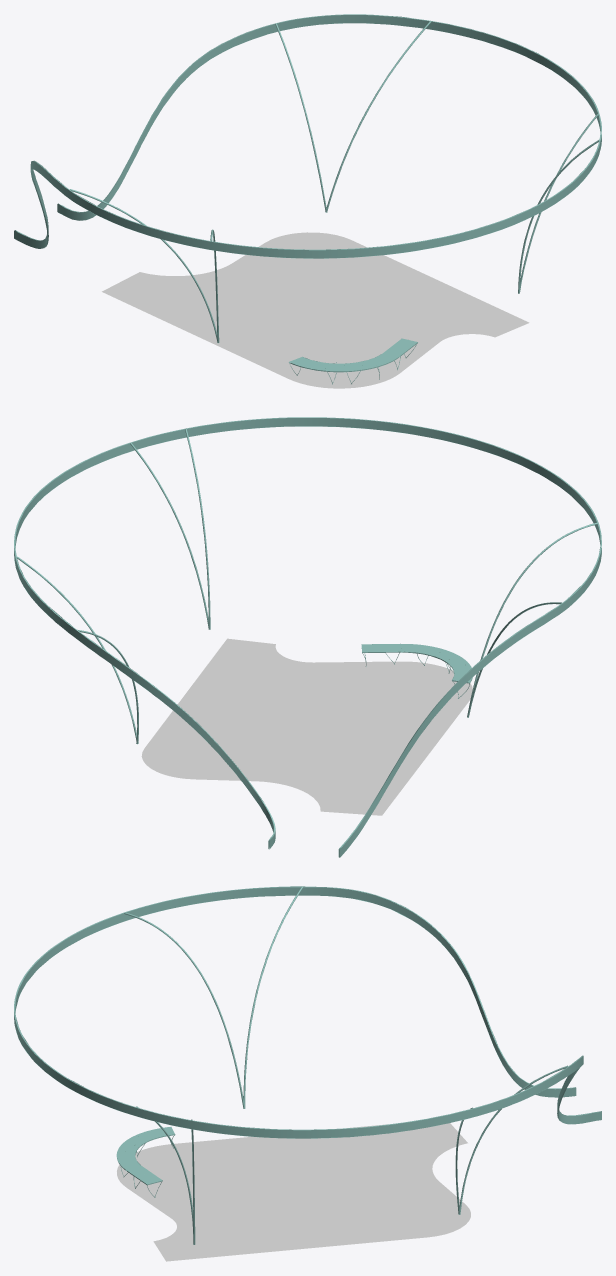
Rendered from dujuan.glb.
3 renders of one model, top to bottom at view 1: azimuth 30°, elevation 25°; view 2: azimuth 150°, elevation 25°; view 3: azimuth 270°, elevation 25°, orthographic. The views are drawn at different scales.
Size of the model in its own units: 12510 by 4368 by 12746.
